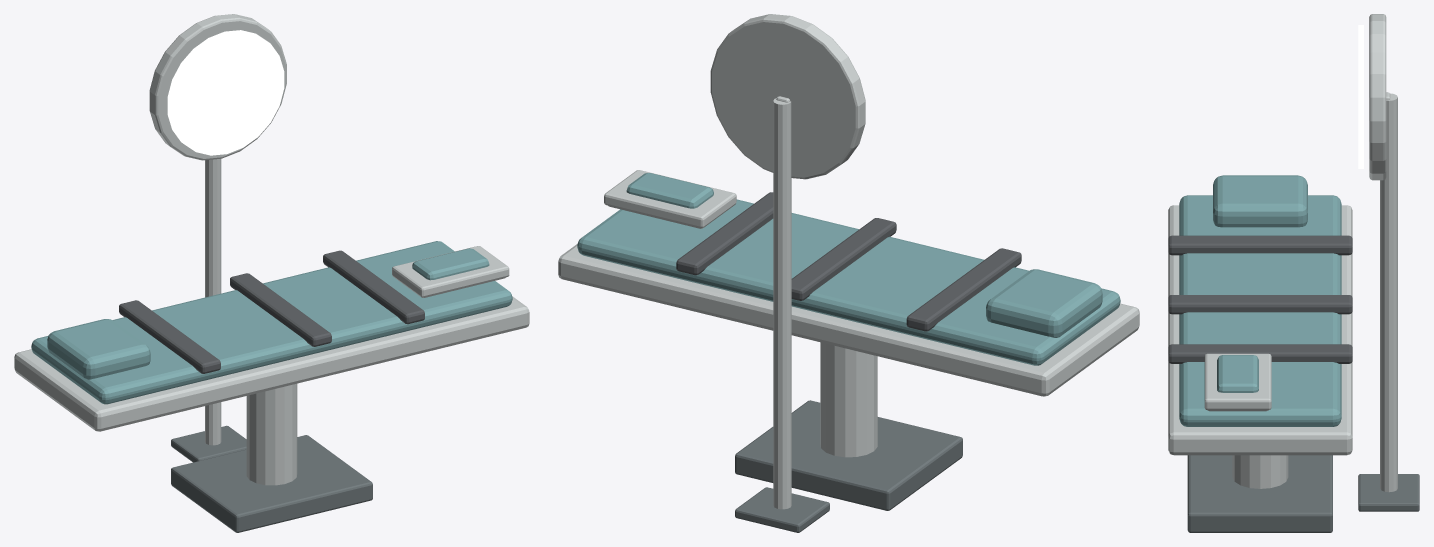
The model's file is operating_table.glb.
The picture shows the model from 3 angles, left to right: view 1: azimuth 30°, elevation 25°; view 2: azimuth 150°, elevation 25°; view 3: azimuth 270°, elevation 25°; orthographic projection. The views are drawn at different scales.
Visible parts, largest first — view 1: operating_table; view 2: operating_table; view 3: operating_table.
Boxes of the visible parts, x1,y1,x2,y2 form: operating_table: (14, 14, 529, 532); operating_table: (558, 14, 1139, 532); operating_table: (1168, 14, 1419, 532).
Size of the model in its own units: 1.96 by 1.88 by 0.9.
